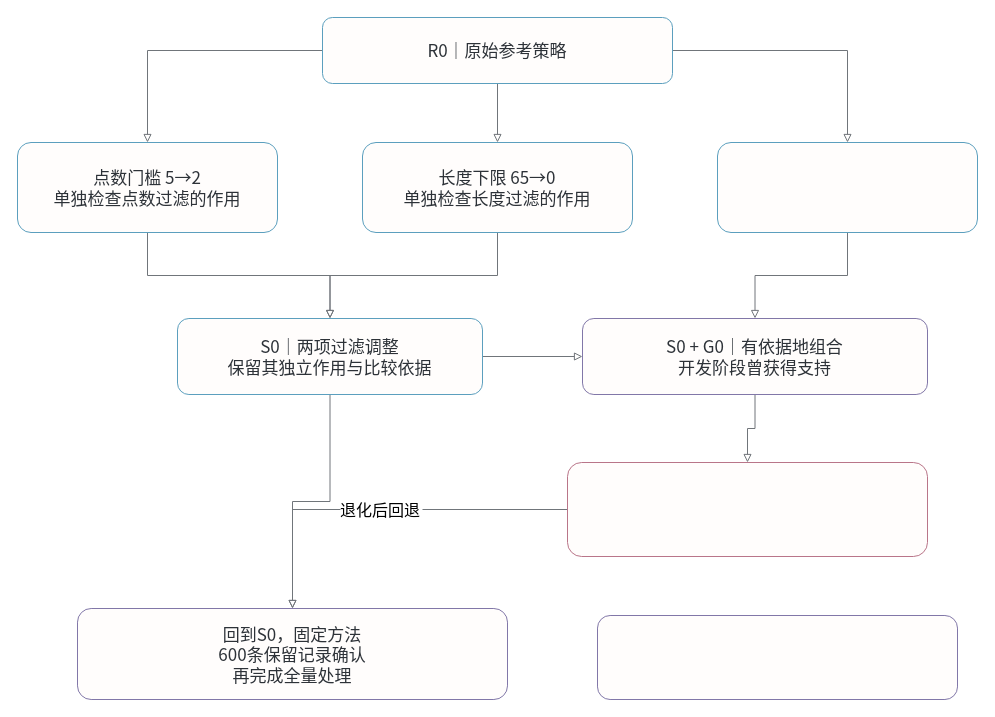
Image size: 995x717. Some labels were removed from this diagram. The shapes that lost their labels are listed below. From the top down, each one's centre as x and y in pixels, then its label:
At [847,187]: "G0｜方向条件规则 在可计算的规定条件下使用".
At [747,509]: "选择记录：3017 / 9311 / 9534 共同几何偏差退化 触发既定的保护与退出规则".
At [777,657]: "其他尝试也留下结果 P2未增益；P10越共同预算 据此保留已获支持的简单方案".
